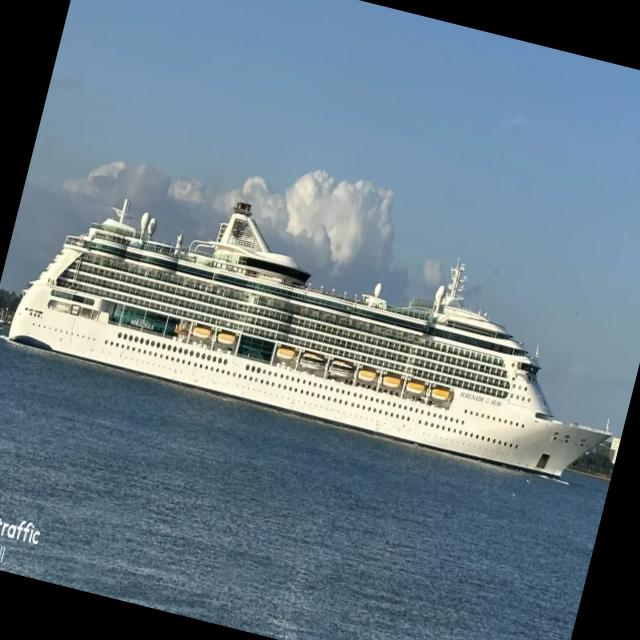Cruise: (8, 199, 610, 476)
